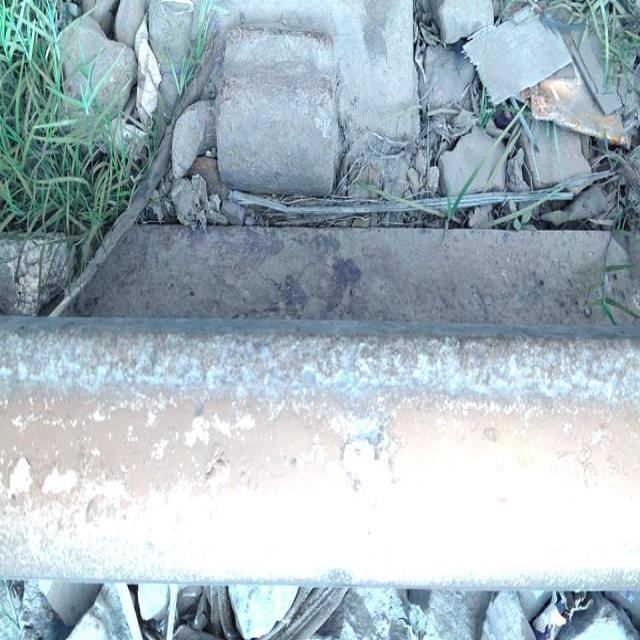head_checks_low: (0, 320, 639, 434)
